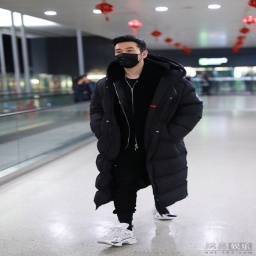correctlyWear: (113, 43, 147, 68)
